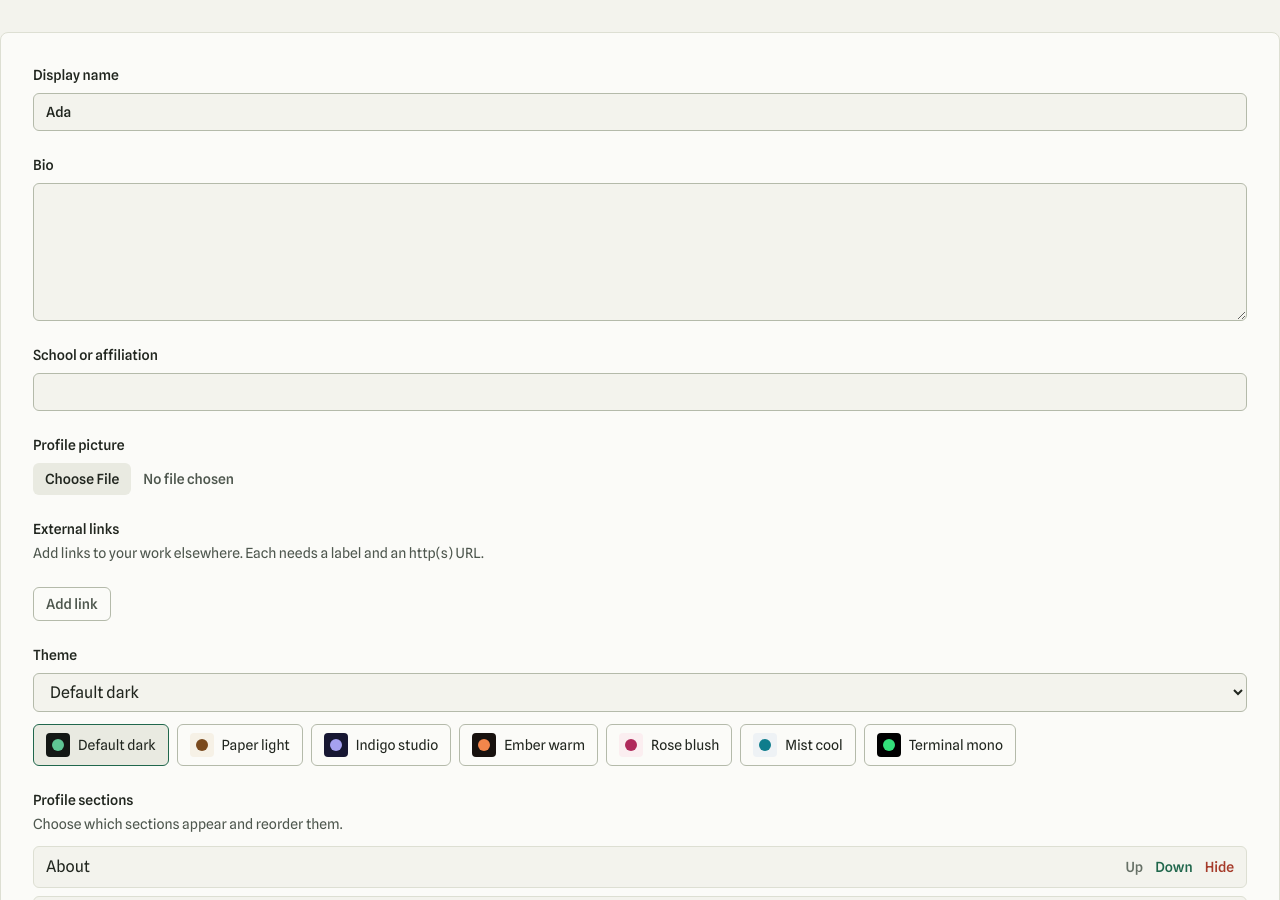
Test: the theme swatches › marks the saved theme's swatch as pressed and updates the select on click
Click the button "Paper light" at (240, 745), box [176,724,303,766]
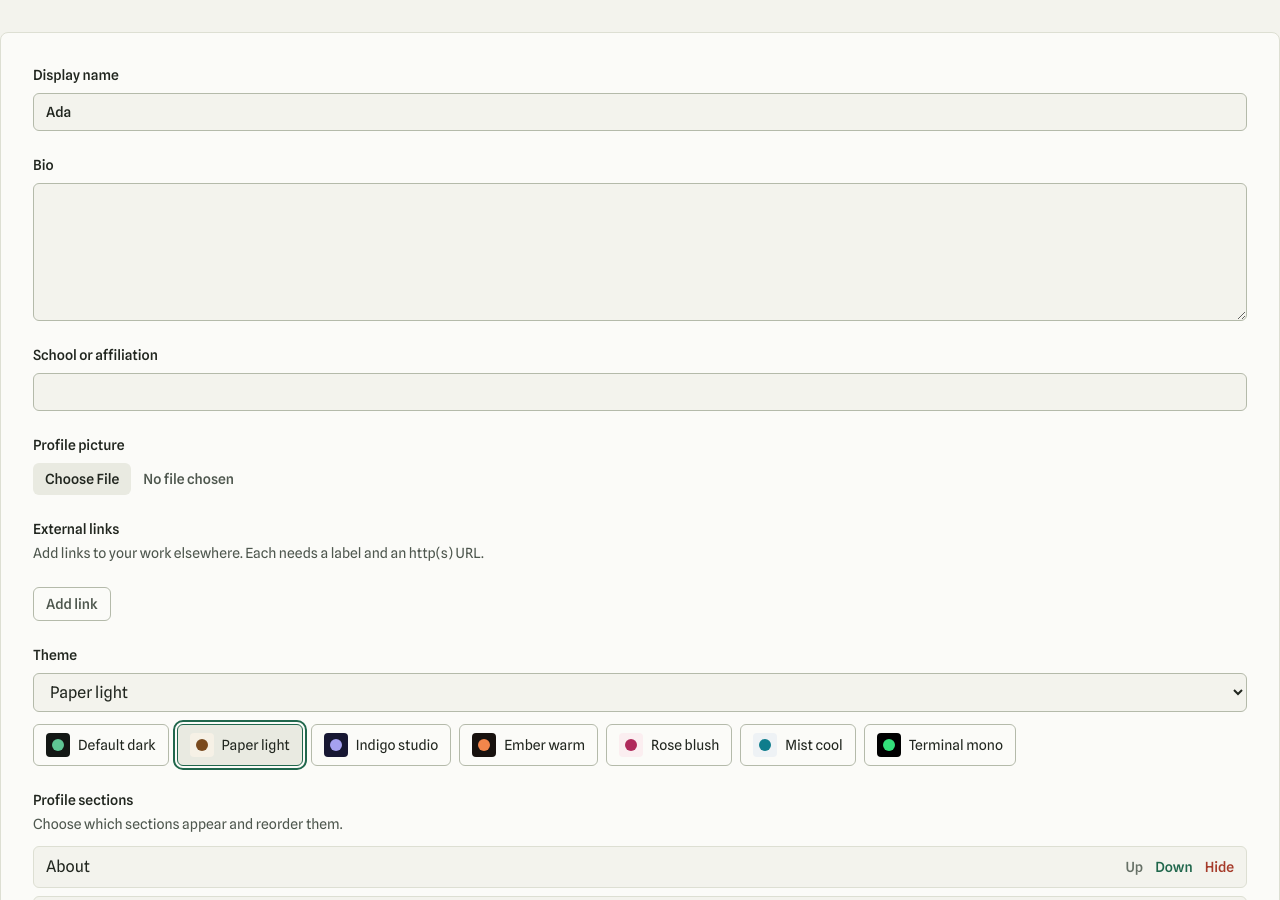
Result: the dropdown named "theme" shows "Paper light" at [33,673,1247,712]
